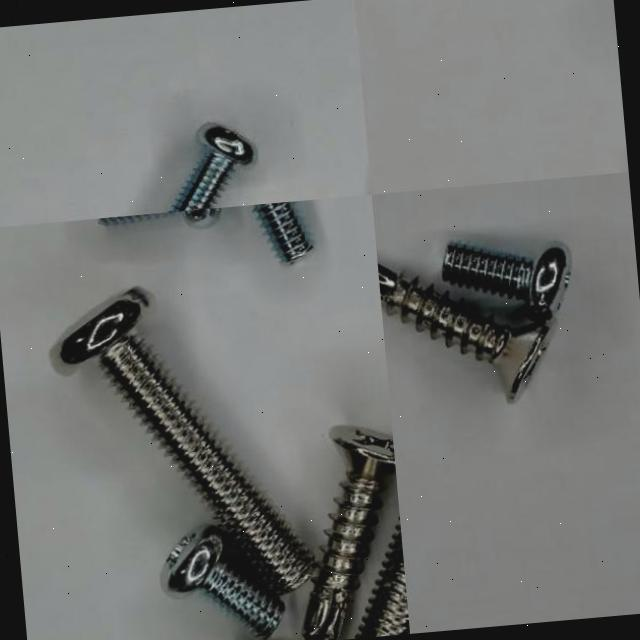Screw: (59, 287, 312, 593), (377, 263, 553, 401), (304, 426, 395, 640), (161, 527, 284, 639), (443, 241, 568, 318), (169, 123, 254, 212), (358, 519, 410, 638), (251, 201, 312, 262)
